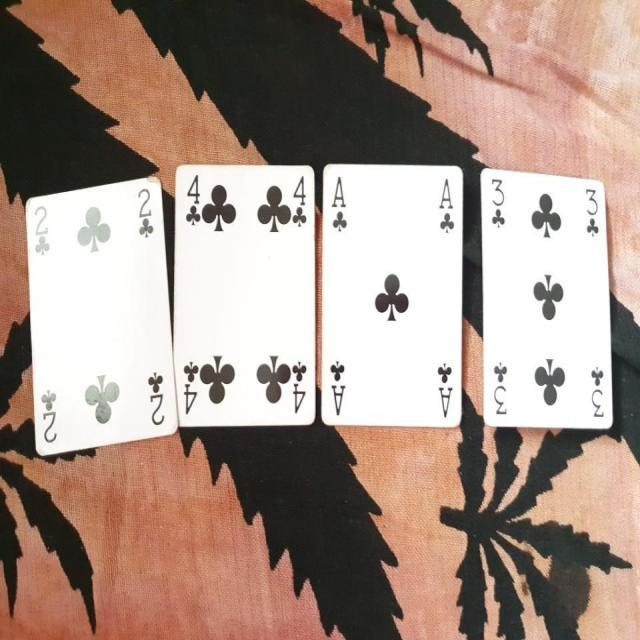2 of clubs: (26, 176, 180, 458)
3 of clubs: (478, 165, 616, 428)
4 of clubs: (170, 162, 316, 426)
ace of clubs: (322, 160, 464, 428)
